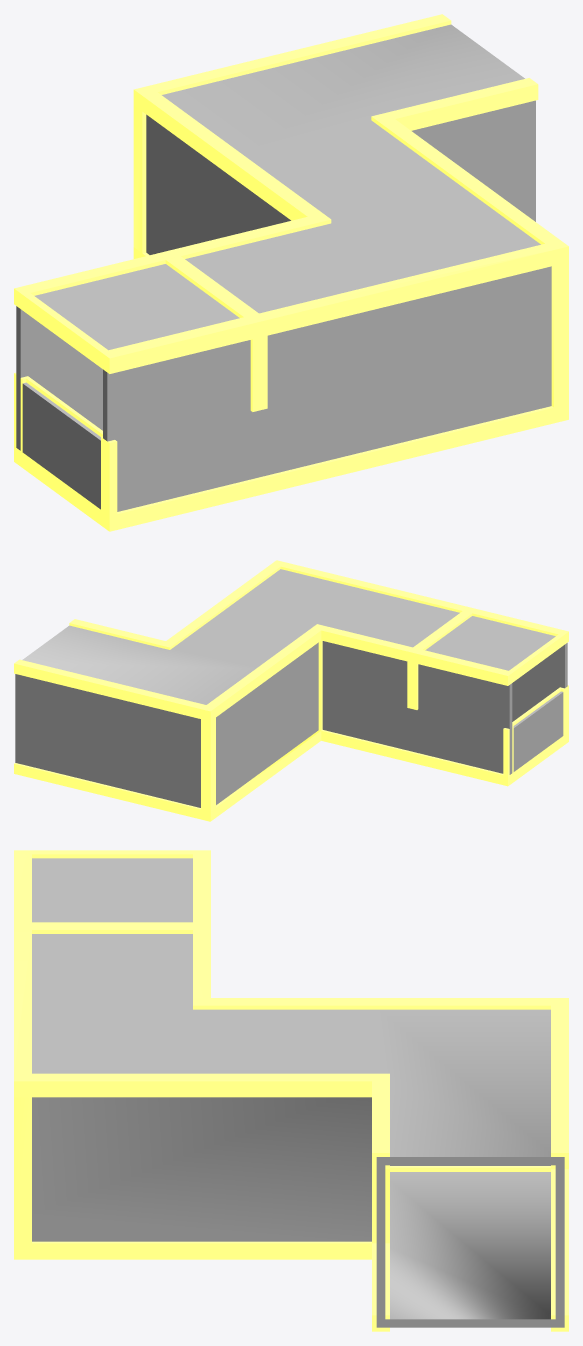
The picture shows the model from 3 angles, top to bottom: view 1: azimuth 30°, elevation 25°; view 2: azimuth 150°, elevation 25°; view 3: azimuth 270°, elevation 25°; orthographic projection. The views are drawn at different scales.
Parts seen in each view (by area): view 1: wal, light; view 2: wal, light; view 3: wal, light.
Part boxes in pixels (box(x1,y1,x2,y2)): wal: box(16, 24, 551, 511); light: box(14, 14, 568, 531); wal: box(15, 569, 567, 807); light: box(14, 560, 568, 821); wal: box(32, 858, 564, 1327); light: box(14, 850, 568, 1331).
Bounding box in the file's own units: 80 × 22 × 62.
